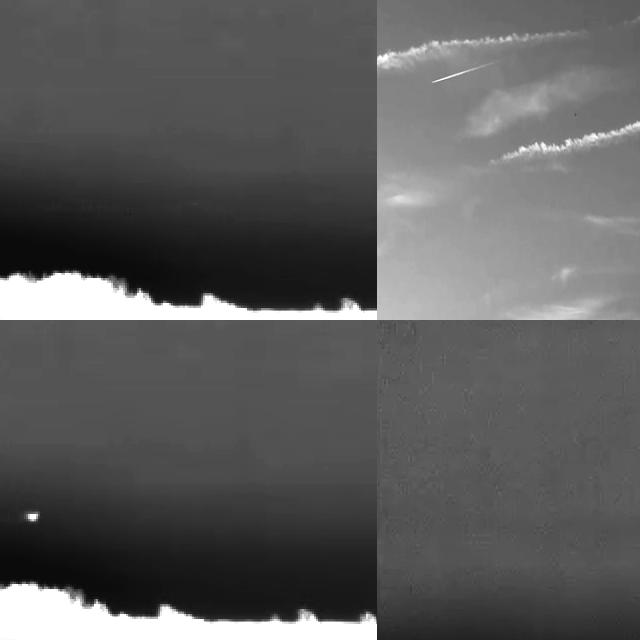0: (22, 504, 50, 534)
drone: (570, 105, 582, 124)
